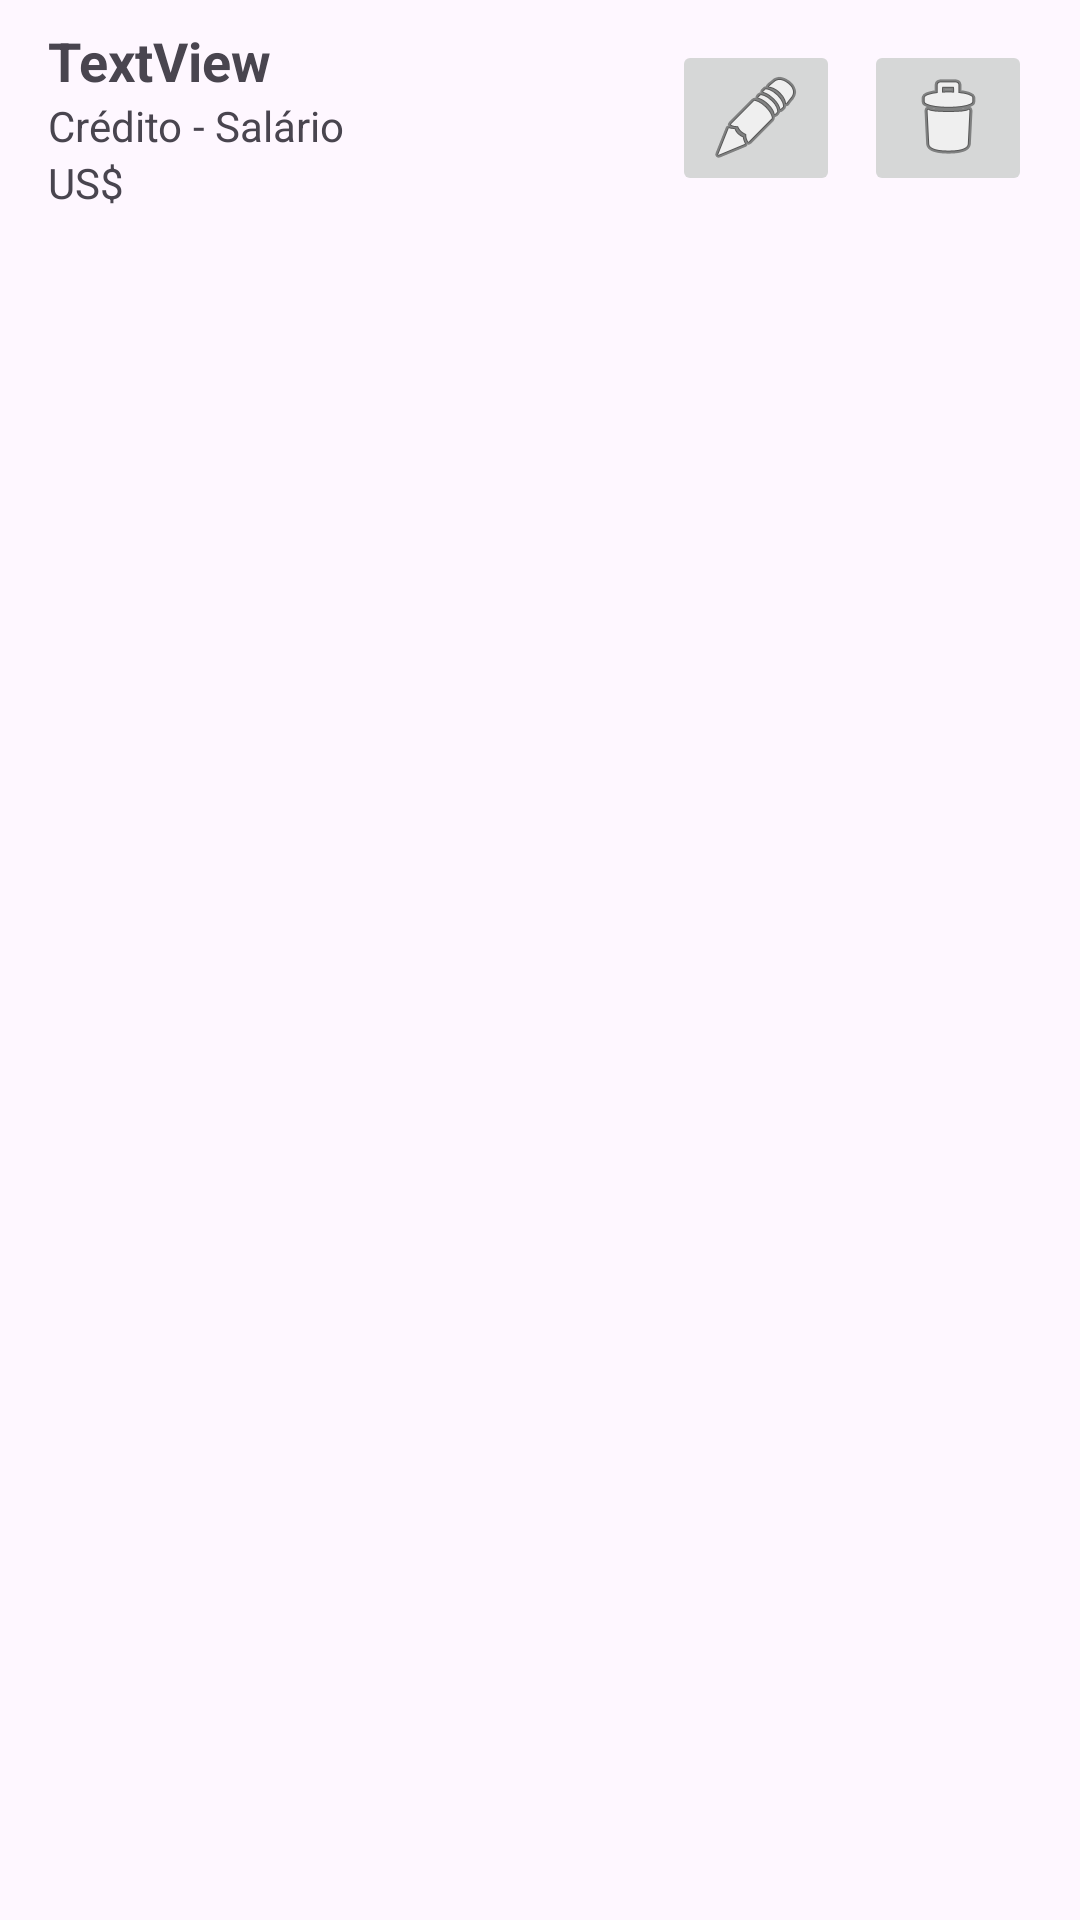

Icons on this 1080×1920 Android screen, each with its box as (x1, y1, x2, y2):
delete: (876, 58, 1020, 178)
edit: (684, 58, 828, 178)
